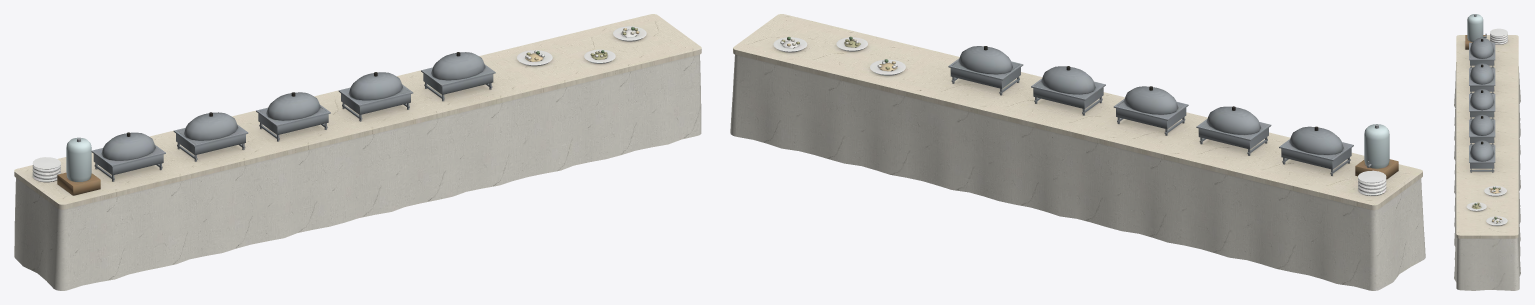
Rendered from buffet_run.glb.
The picture shows the model from 3 angles, left to right: view 1: azimuth 30°, elevation 25°; view 2: azimuth 150°, elevation 25°; view 3: azimuth 270°, elevation 25°; orthographic projection. The views are drawn at different scales.
Visible parts, largest first — view 1: buffet_run; view 2: buffet_run; view 3: buffet_run.
Boxes of the visible parts, x1,y1,x2,y2 form: buffet_run: (14, 14, 701, 290); buffet_run: (730, 14, 1425, 290); buffet_run: (1454, 14, 1520, 290).
Bounding box in the file's own units: 7.09 × 1.39 × 0.9903.
Materials: 1 (1 with a texture image).
